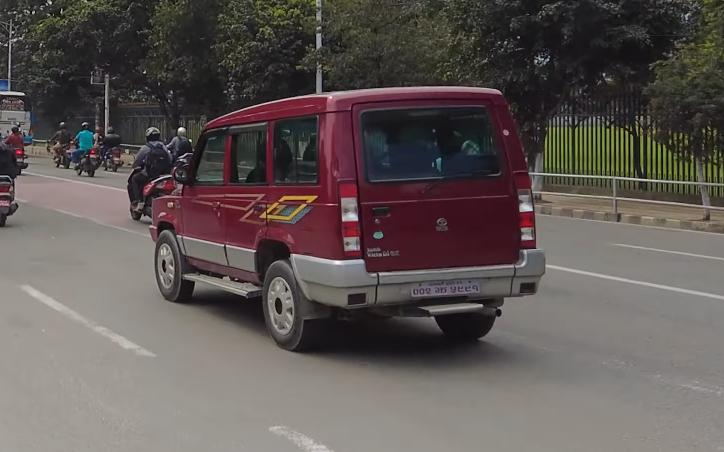SUV: (141, 75, 546, 355)
scooter: (125, 163, 178, 219)
